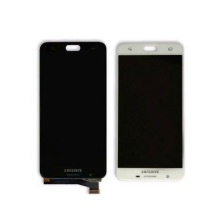phone: (115, 39, 187, 187), (38, 36, 110, 183)
